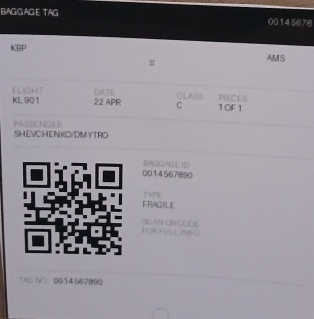LPN_bottom: (51, 274, 106, 287)
LPN_right: (140, 167, 195, 180)
